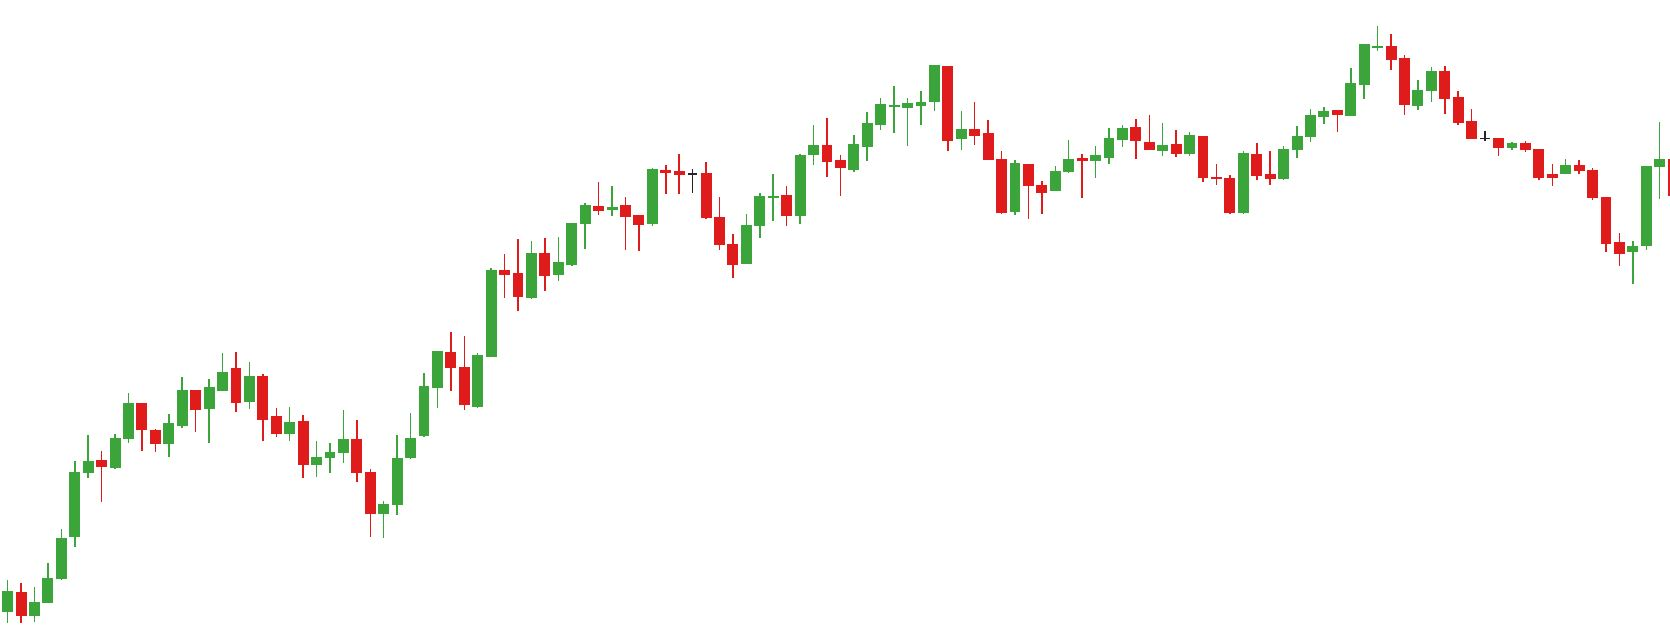buy: (1074, 136, 1249, 219), (618, 182, 754, 285)
